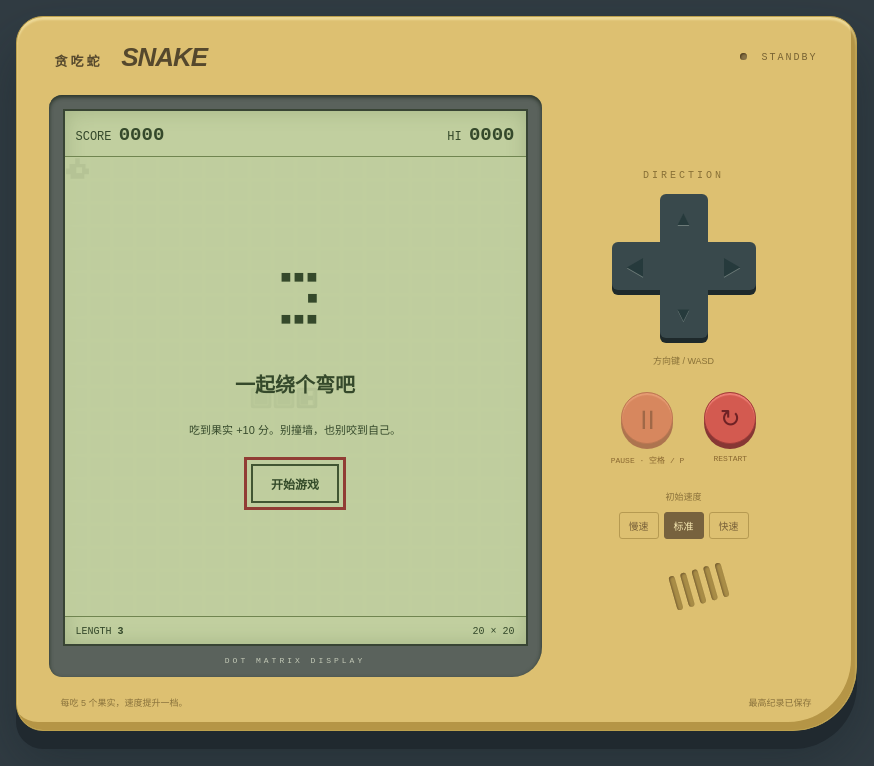
Test: independent game interactions › selects snake speed before launch and locks the setting during a run
The image size is (874, 766).
Click the button "快速": (728, 526) [708,512,748,539]
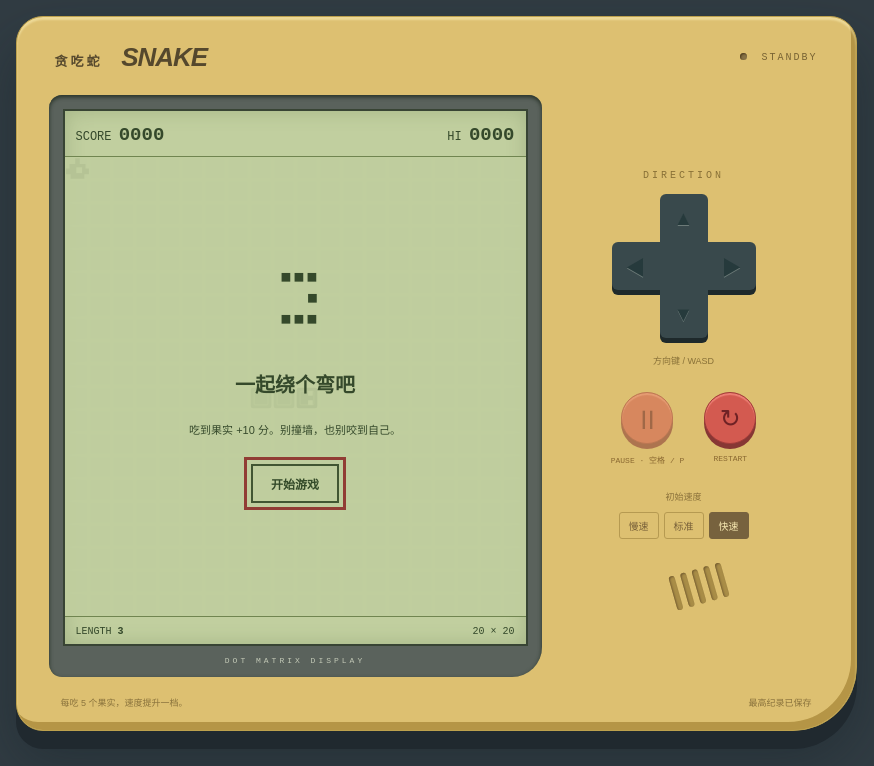
Expected: the button "快速" is pressed, [708,512,748,539]
Click the button "开始游戏": (295, 483) [251,464,339,503]
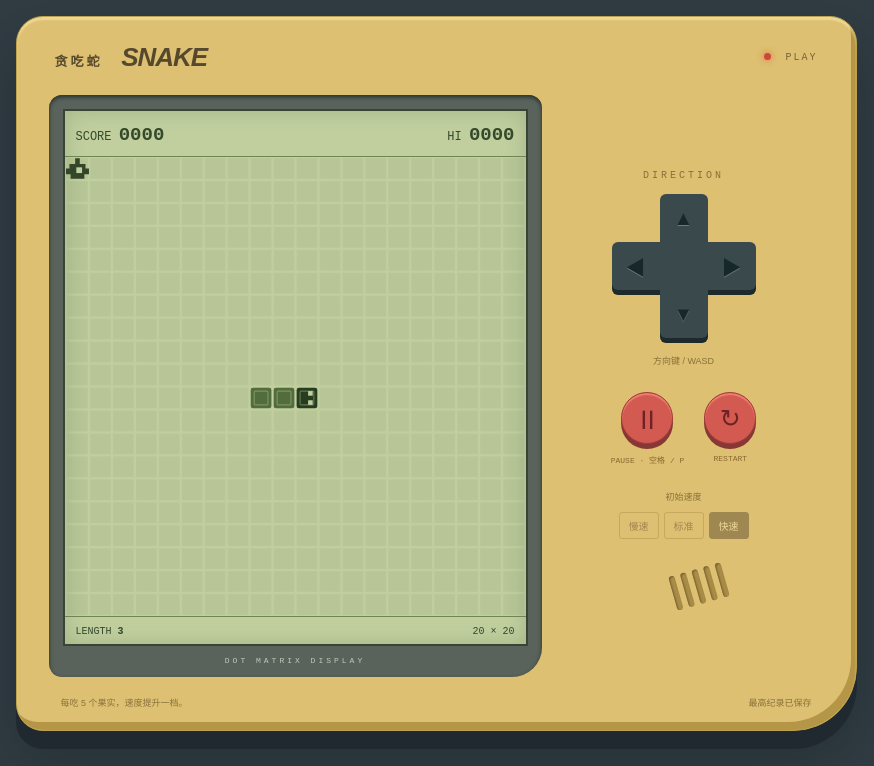
Expected: the button "慢速" is disabled, [618,512,658,539]
Expected: the button "快速" is disabled, [708,512,748,539]
